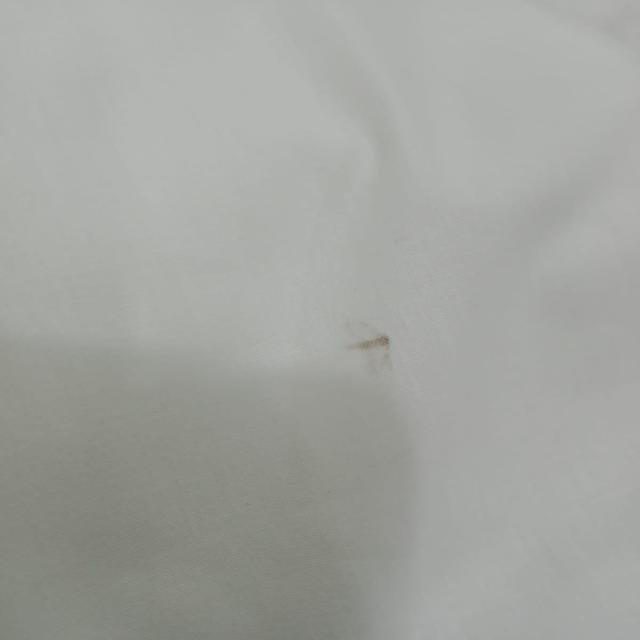stain: (331, 312, 420, 391)
